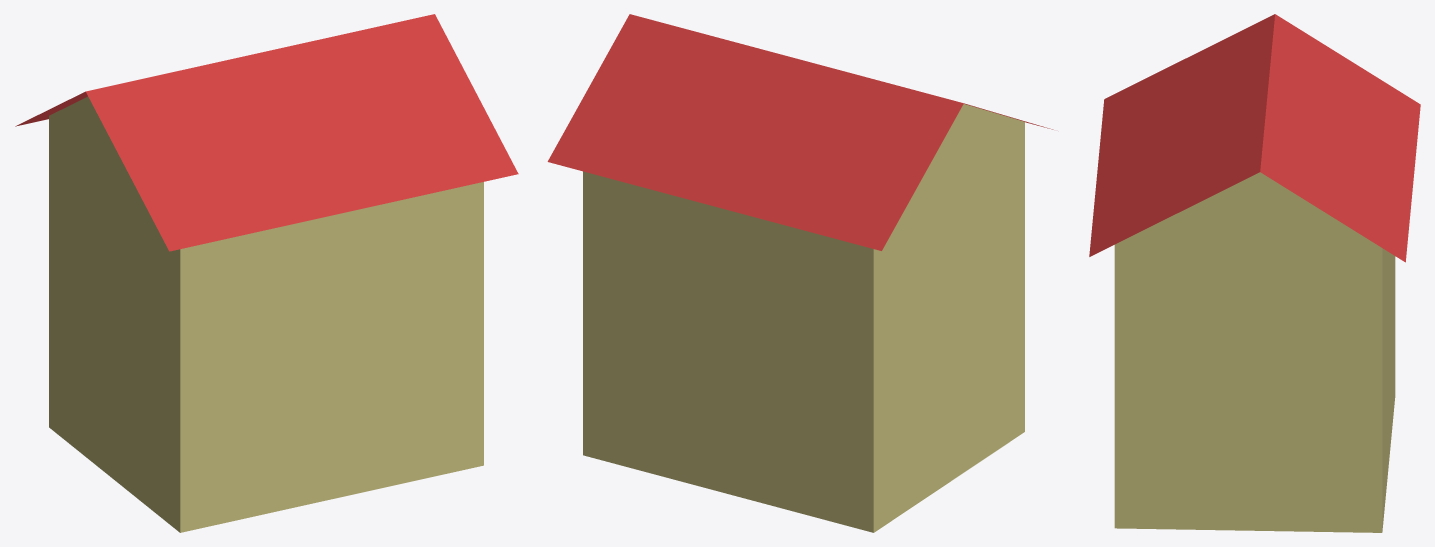
3 renders of one model, left to right at view 1: azimuth 30°, elevation 25°; view 2: azimuth 150°, elevation 25°; view 3: azimuth 270°, elevation 25°, orthographic. The views are drawn at different scales.
Bounding box in the file's own units: 11.9 × 10.2 × 12.52.
